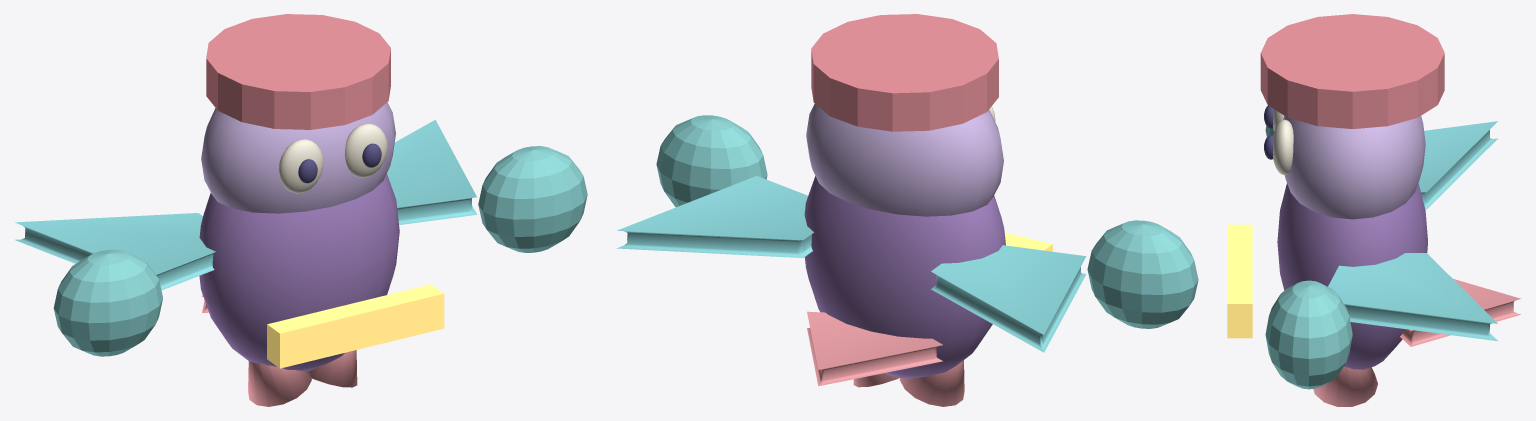
The model's file is opera_rival_boxer.glb.
3 views of the same model, side by side, from view 1: azimuth 30°, elevation 25°; view 2: azimuth 150°, elevation 25°; view 3: azimuth 270°, elevation 25° (orthographic). The views are drawn at different scales.
Visible parts, largest first — view 1: RivalImpBody, BoxerHeadguard, BoxerGloveL, BoxerGloveR, BoxerBelt; view 2: RivalImpBody, BoxerHeadguard, BoxerGloveL, BoxerGloveR, BoxerBelt; view 3: RivalImpBody, BoxerHeadguard, BoxerGloveR, BoxerBelt.
Boxes of the visible parts, box(x1,y1,x2,y2) form: RivalImpBody: box(15, 102, 476, 406); BoxerHeadguard: box(206, 14, 390, 129); BoxerGloveL: box(53, 249, 162, 356); BoxerGloveR: box(478, 146, 587, 252); BoxerBelt: box(267, 284, 444, 368); RivalImpBody: box(616, 104, 1086, 406); BoxerHeadguard: box(811, 14, 998, 131); BoxerGloveL: box(1087, 220, 1198, 328); BoxerGloveR: box(656, 115, 767, 207); BoxerBelt: box(1004, 232, 1052, 251); RivalImpBody: box(1264, 105, 1521, 406); BoxerHeadguard: box(1260, 14, 1444, 128); BoxerGloveR: box(1265, 280, 1352, 389); BoxerBelt: box(1227, 224, 1252, 338).
Bounding box in the file's own units: 7.54 × 4.59 × 3.71.
